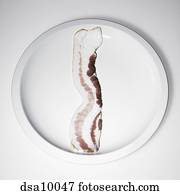bacon: (65, 26, 109, 151)
